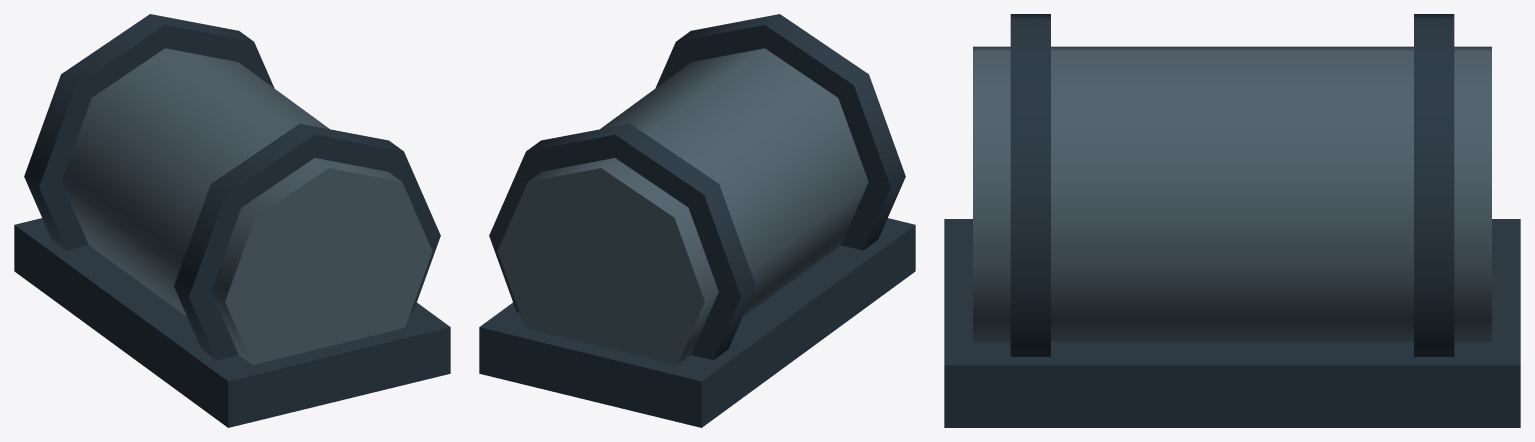
Rendered from terrain-pipe.glb.
3 renders of one model, left to right at view 1: azimuth 30°, elevation 25°; view 2: azimuth 150°, elevation 25°; view 3: azimuth 270°, elevation 25°, orthographic. The views are drawn at different scales.
Visible parts, largest first — view 1: terrain-pipe; view 2: terrain-pipe; view 3: terrain-pipe.
Boxes of the visible parts, <box> form: terrain-pipe: <box>14,14,450,427</box>; terrain-pipe: <box>479,14,915,427</box>; terrain-pipe: <box>944,14,1520,427</box>.
Bounding box in the file's own units: 0.68 × 0.68 × 1.
